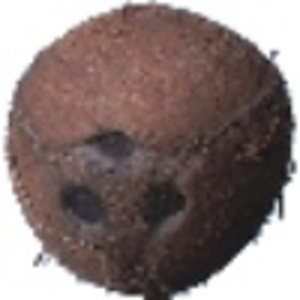coco: (2, 1, 297, 300)
